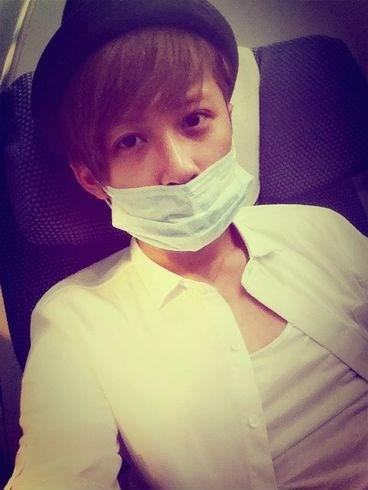WRONG: (98, 84, 235, 246)
